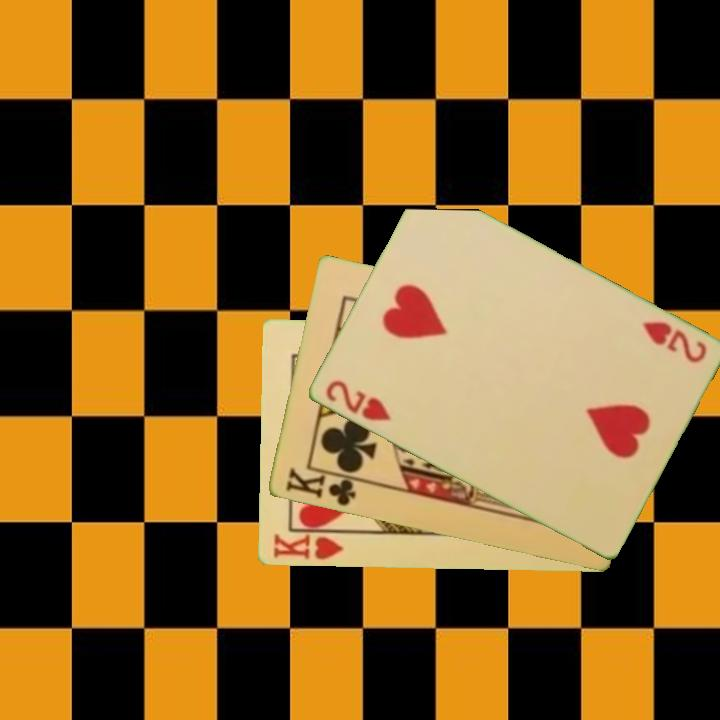2h: (321, 376, 394, 425), (638, 318, 710, 366)
Kc: (281, 465, 364, 509)
Kh: (269, 528, 351, 563)
